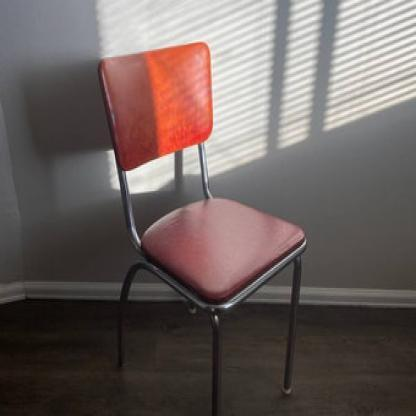chair: (85, 39, 305, 416)
